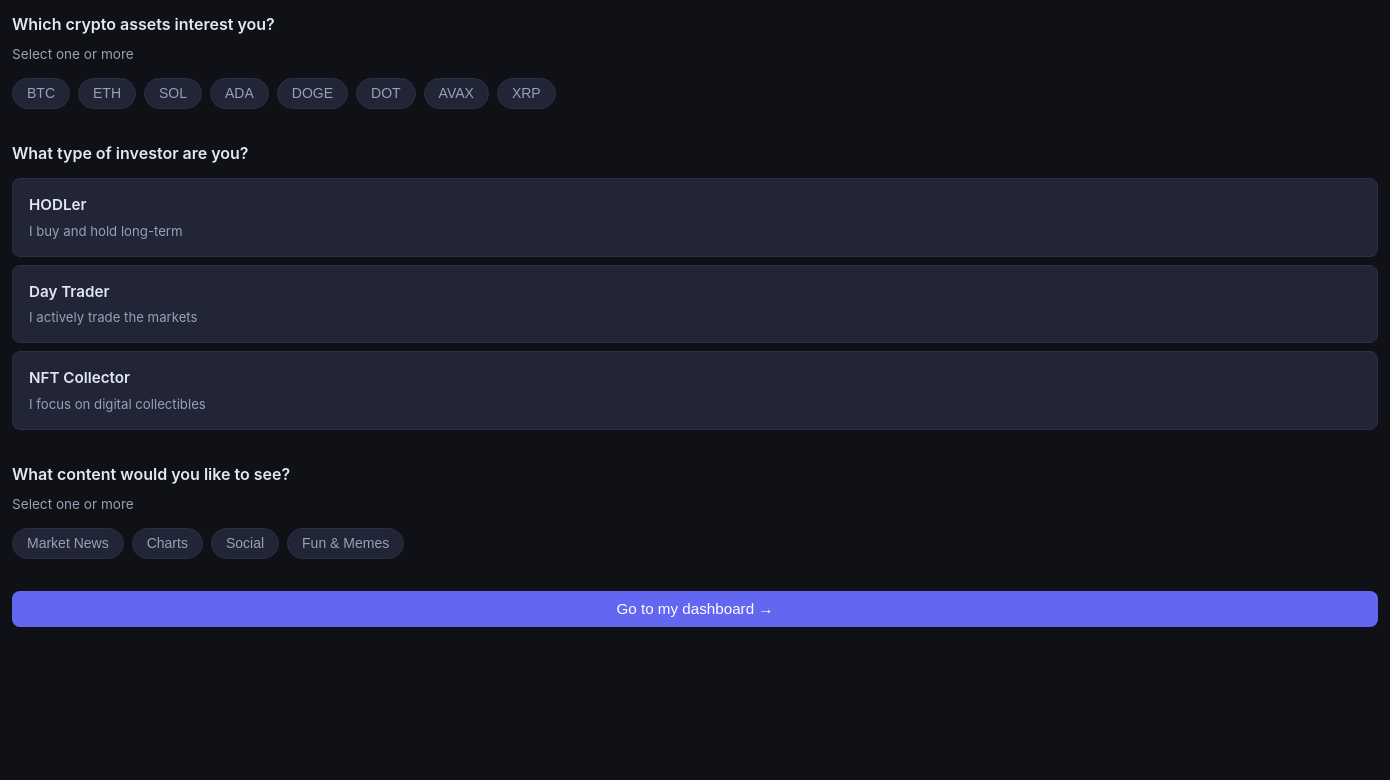
it: OnboardingForm › shows validation error when no investor type is selected
The image size is (1390, 780).
Click the button "BTC" at (41, 93), box top-left (12, 78), bottom-right (70, 109)
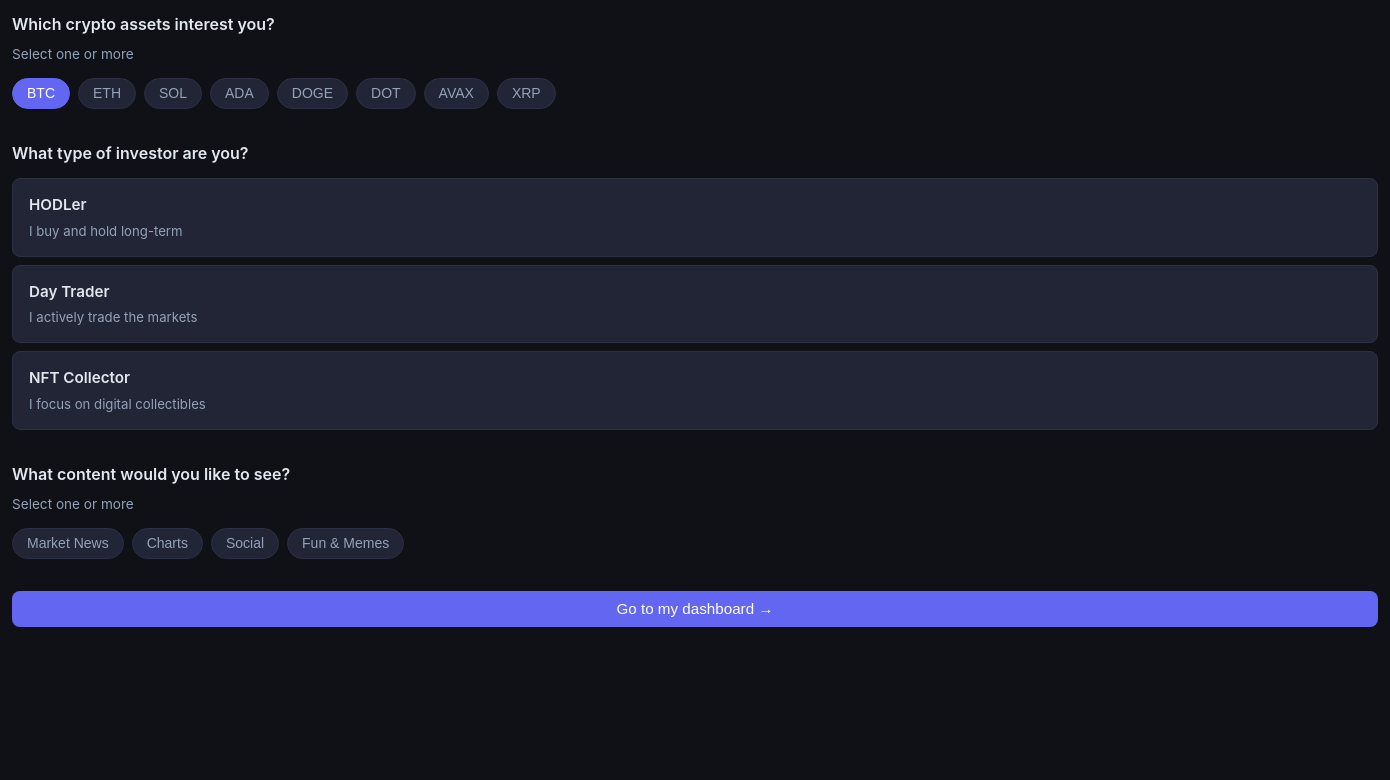
Click the button "Go to my dashboard →" at (695, 609), box top-left (12, 590), bottom-right (1378, 627)
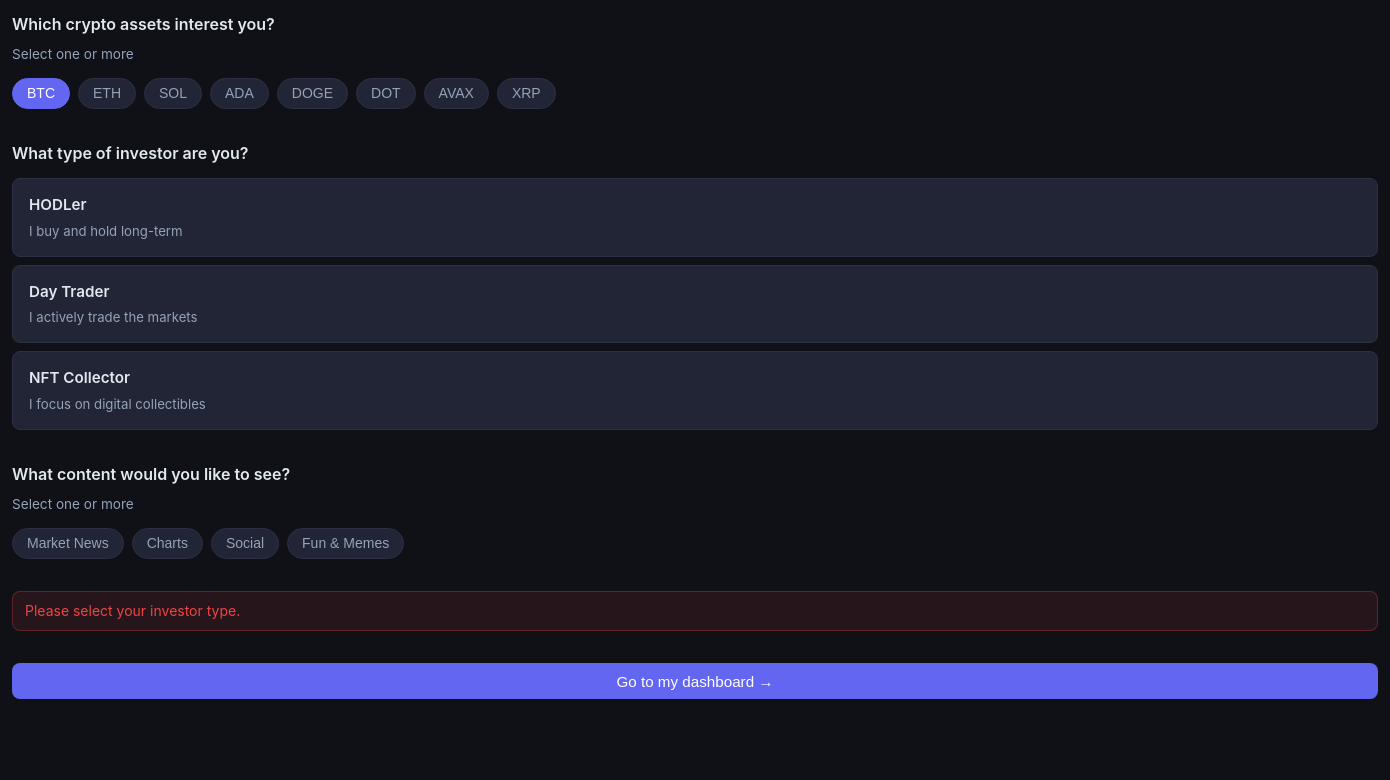
Now the text "Please select your investor type." is shown, box top-left (12, 590), bottom-right (1378, 631)
